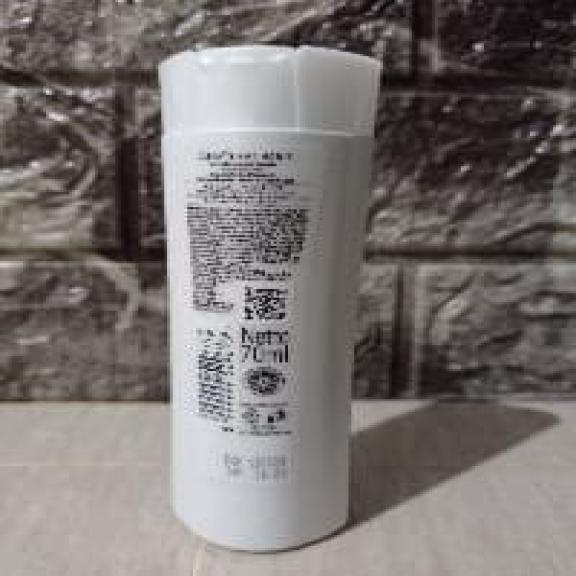Plastik: (145, 48, 435, 558)
